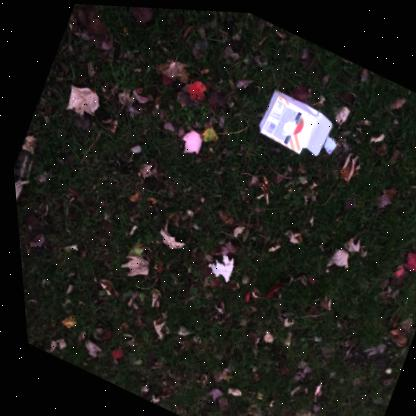Paper: (256, 84, 329, 151)
Plastic: (320, 129, 334, 149)
